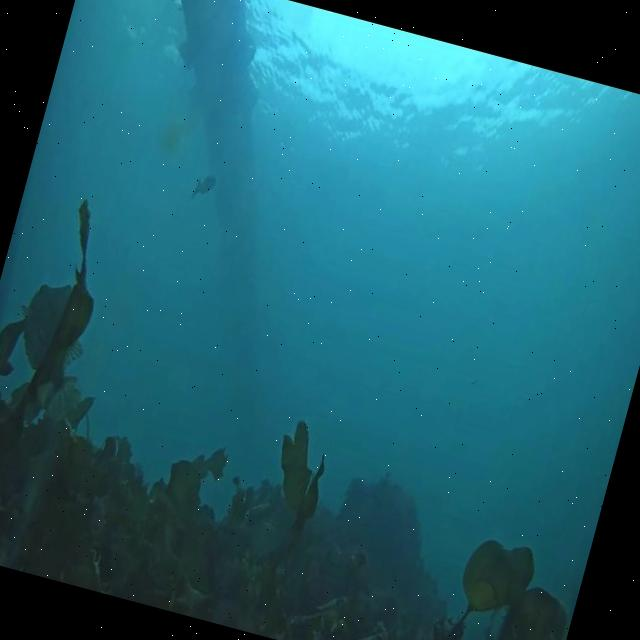fish: (192, 171, 220, 204)
